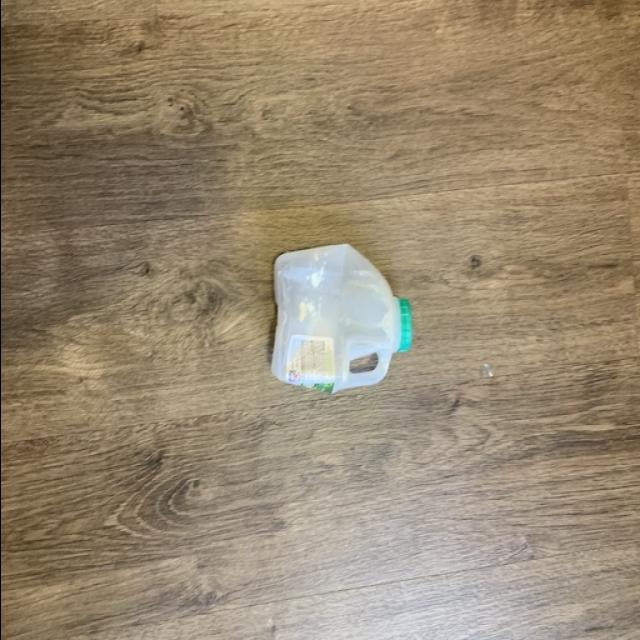HDPEM: (256, 235, 417, 393)
